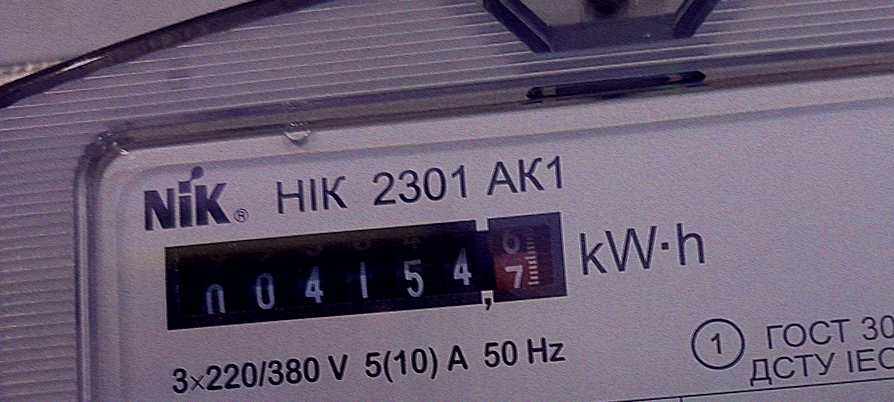0: (251, 269, 277, 312), (201, 279, 227, 315)
1: (354, 258, 371, 301)
4: (300, 263, 326, 306), (449, 243, 472, 288)
5: (399, 253, 427, 299)
6: (498, 225, 523, 256)
7: (502, 261, 525, 291)
screen: (144, 196, 585, 345)
